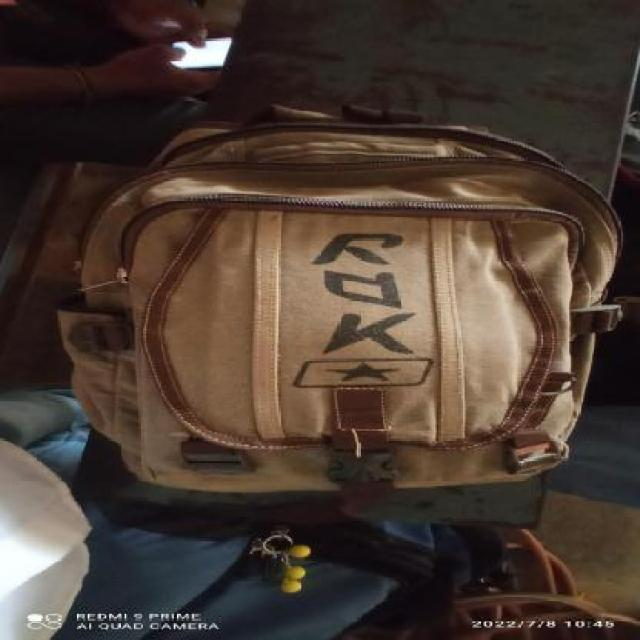backpack: (56, 105, 624, 497)
